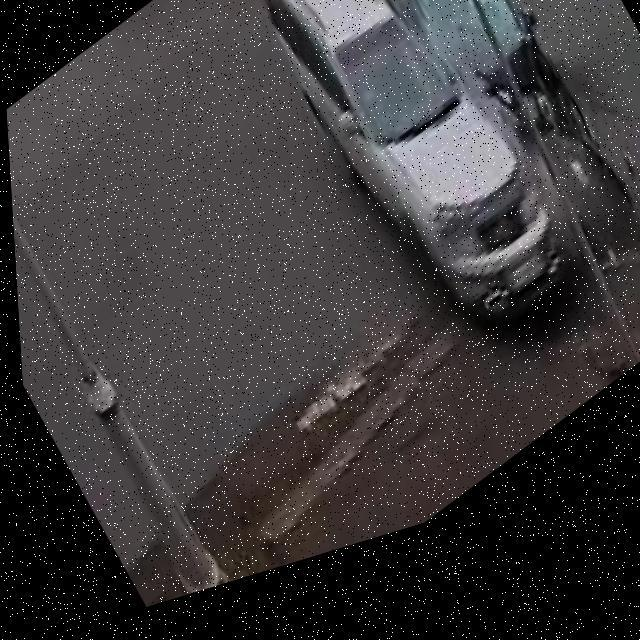Car Accident Detector - v4 Generation1 Exported: (204, 0, 640, 481)
